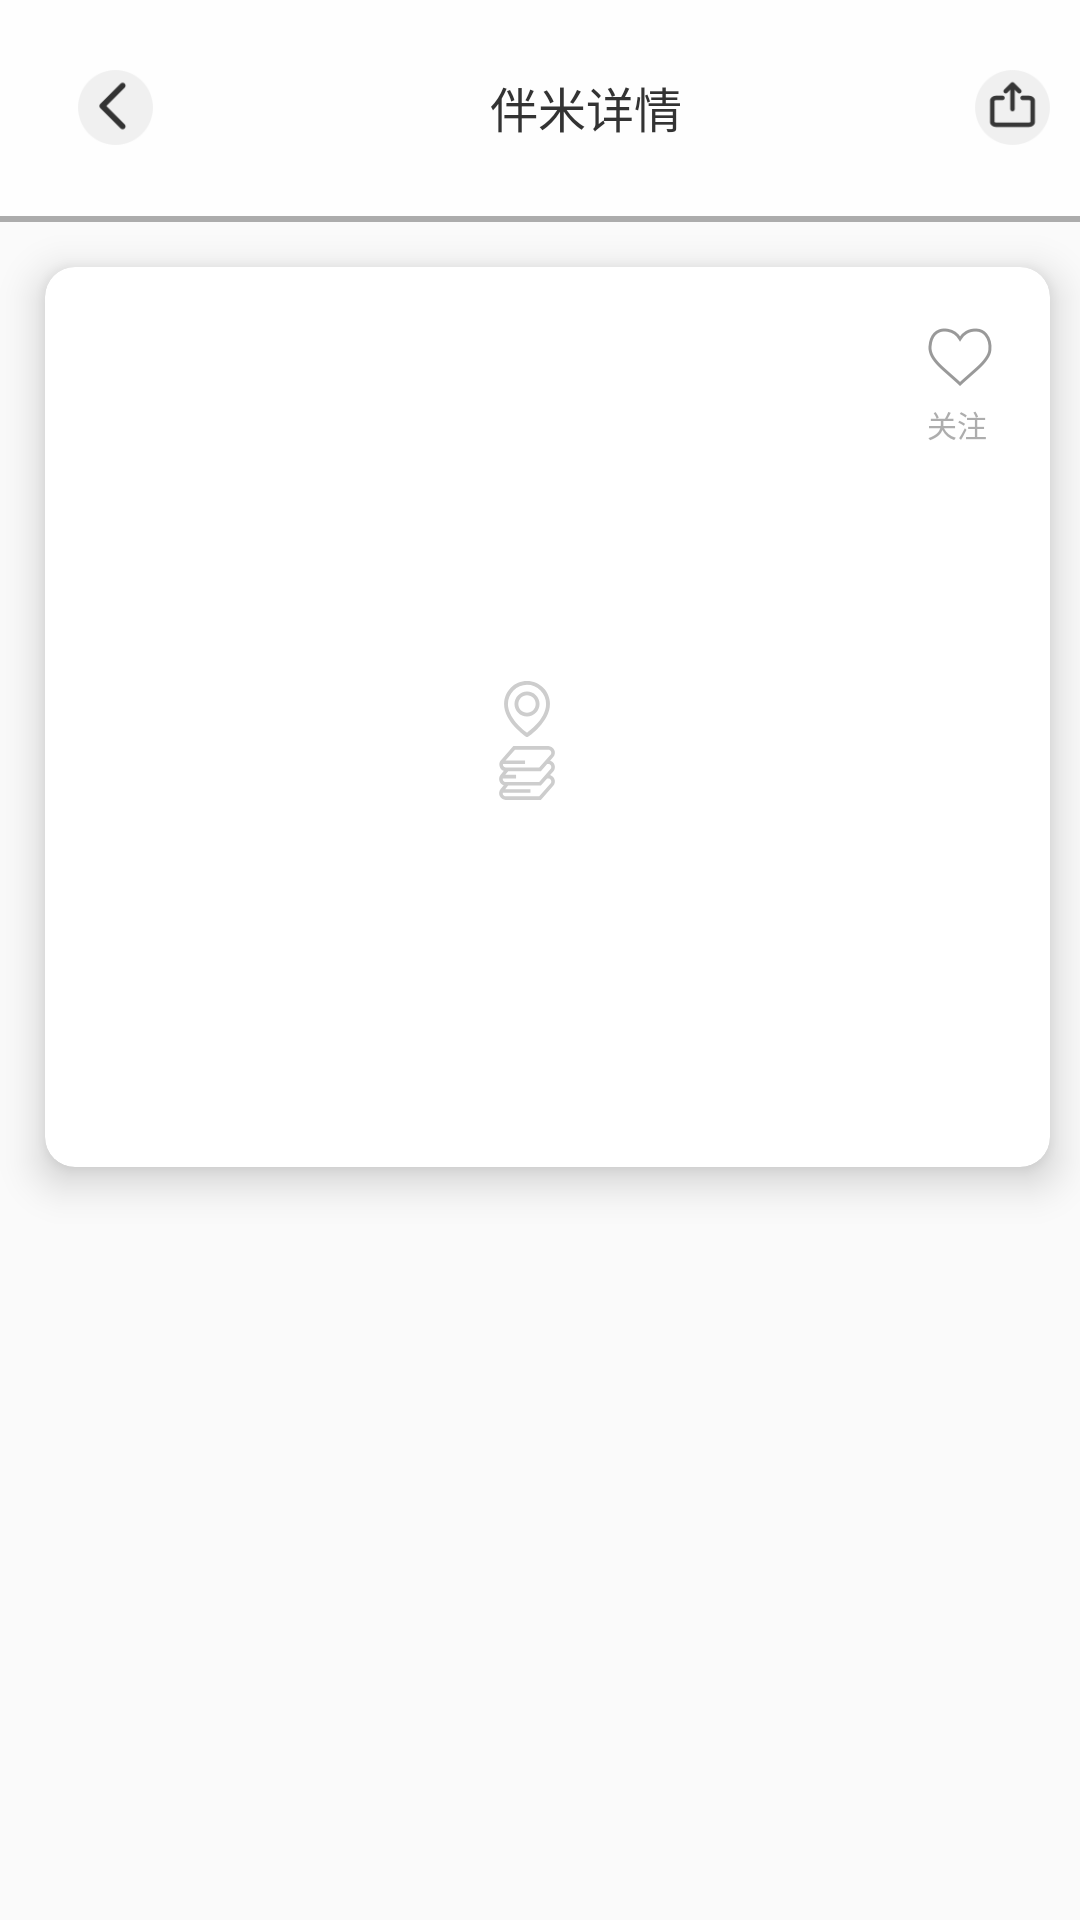

Locate icon controls on the screen. Image size 1080 x 1920, boxes as rect(x1, y1, x2, y2).
back: rect(78, 70, 153, 145)
share: rect(975, 70, 1050, 145)
